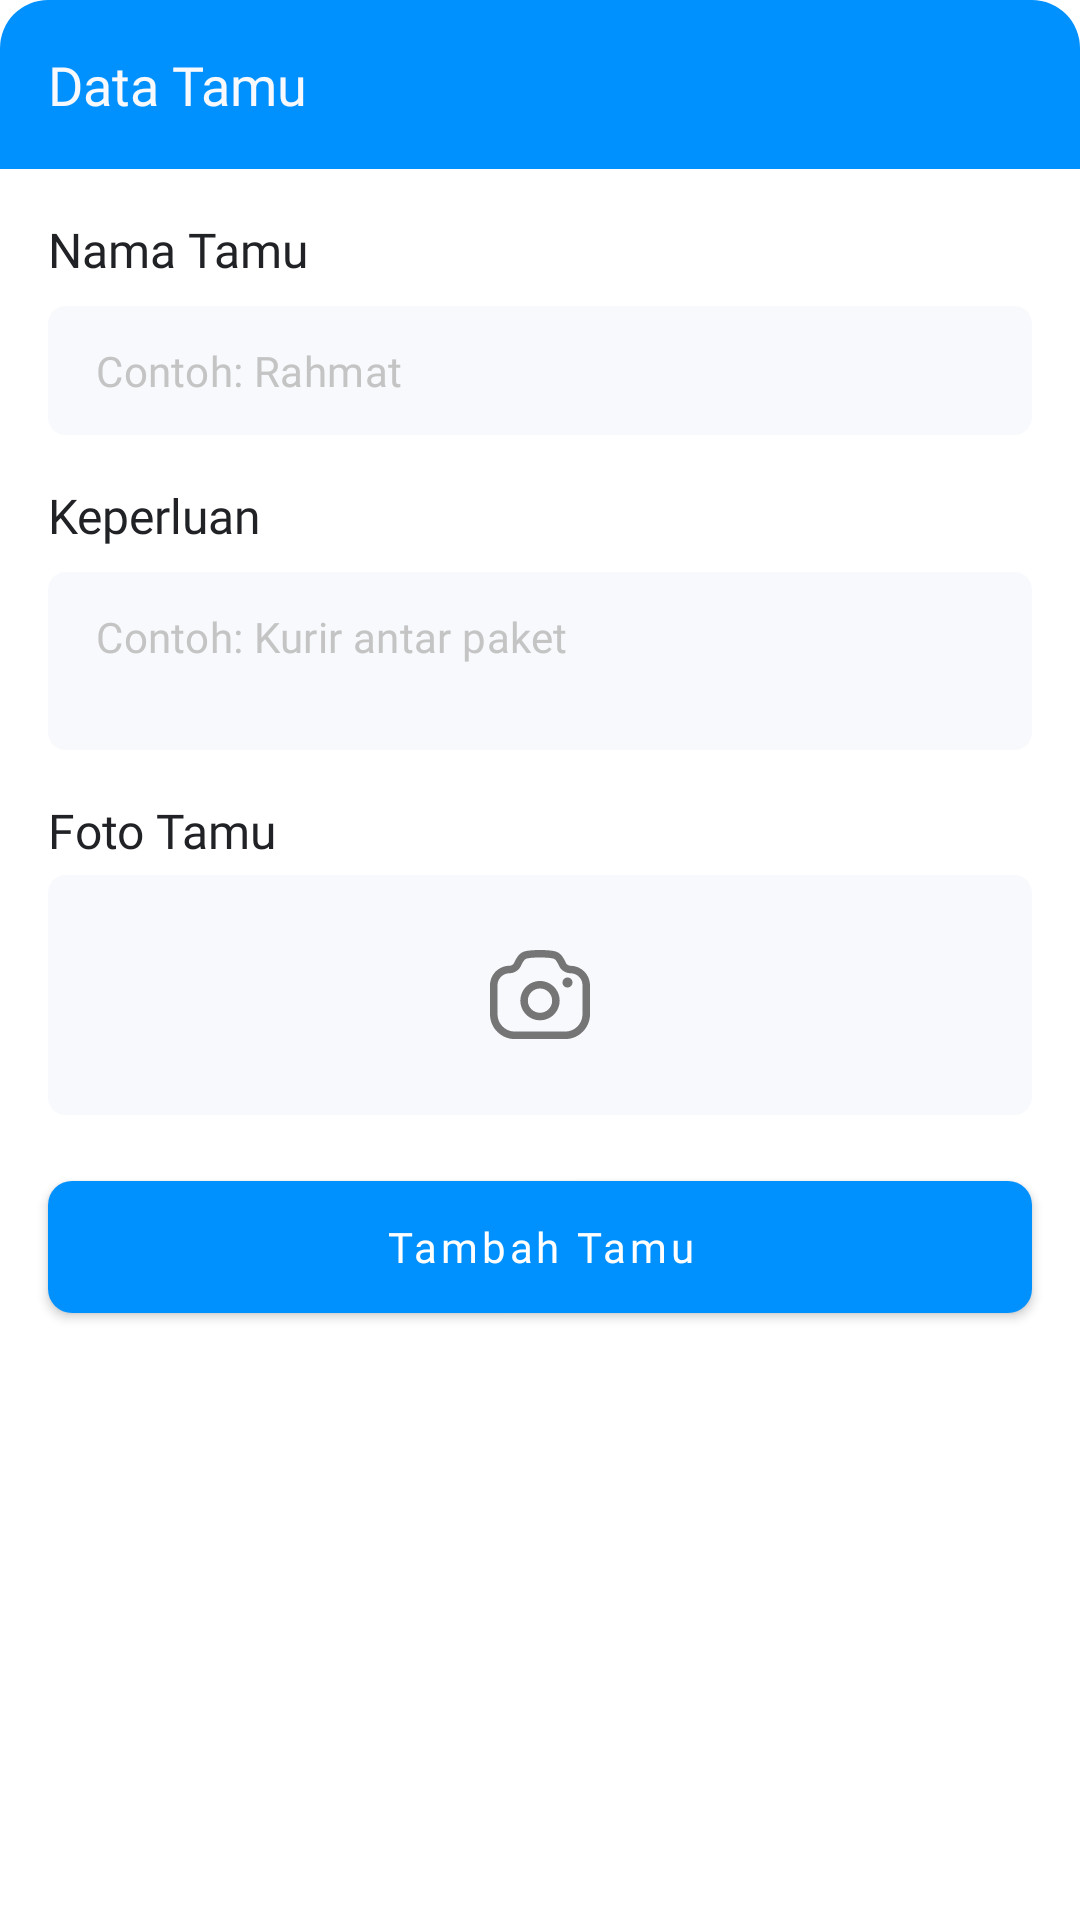

Screen size 1080w x 1920h. Icon name, then its box in pixels as BBox(x1, y1, x2, y2):
camera: BBox(490, 950, 590, 1039)
